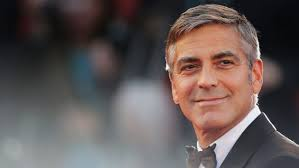white_male: (168, 26, 259, 132)
